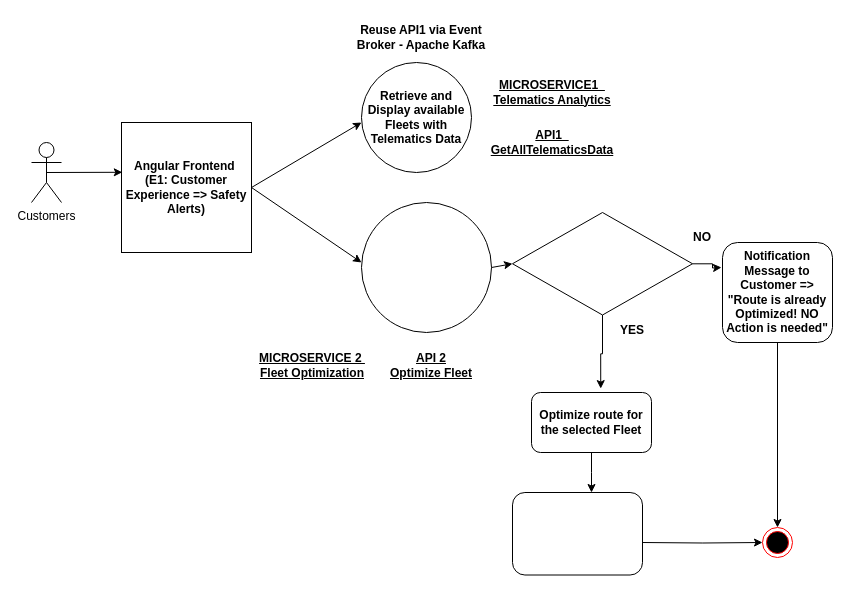
The diagram is 850 pixels wide and 592 high, and some of its shapes have lost their labels. Each missing label, with the box of its shape:
"Optimize Fleet" Button for selecetd Fleet: (360, 202, 492, 332)
Notification Message to Customer (Route is Adjusted for selected Fleet): (512, 492, 642, 575)
vehicleTelematics. fuelEfficiency < 20: (512, 212, 692, 315)
